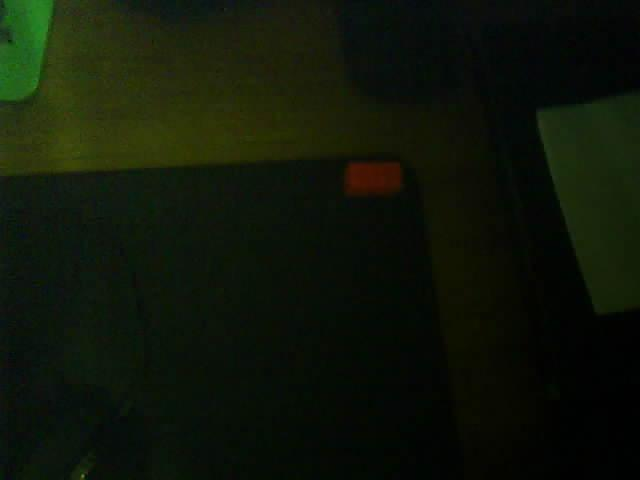lego: (343, 162, 402, 194)
